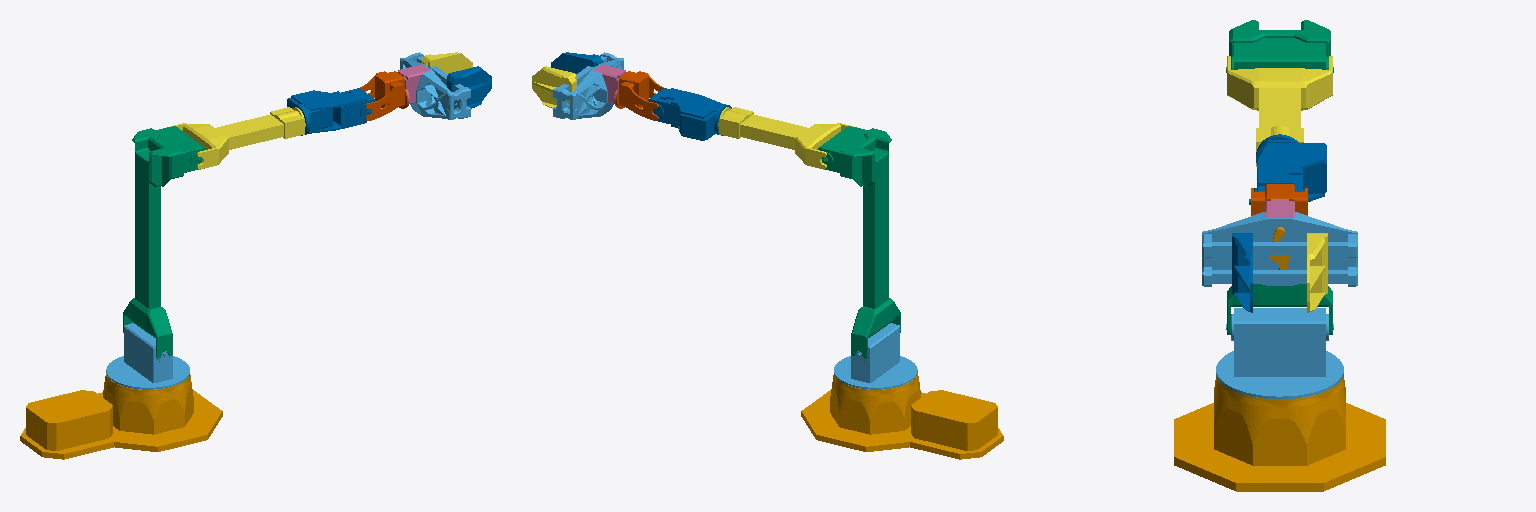
The robot description file, URDF, robot "vx300s":
<?xml version="1.0" ?>
<!-- =================================================================================== -->
<!-- |    This document was autogenerated by xacro from vx300s.urdf.xacro              | -->
<!-- |    EDITING THIS FILE BY HAND IS NOT RECOMMENDED                                 | -->
<!-- =================================================================================== -->
<robot name="vx300s">
  <link name="vx300s/base_link">
    <visual>
      <origin rpy="0 0 1.5707963267948966" xyz="0 0 0"/>
      <geometry>
        <mesh filename="../meshes/vx300s_meshes/vx300s_1_base.obj" scale="0.001 0.001 0.001"/>
      </geometry>
    </visual>
    <collision>
      <origin rpy="0 0 1.5707963267948966" xyz="0 0 0"/>
      <geometry>
        <mesh filename="../meshes/vx300s_meshes/vx300s_1_base.obj" scale="0.001 0.001 0.001"/>
      </geometry>
    </collision>
    <inertial>
      <origin rpy="0 0 1.5707963267948966" xyz="-0.0534774000 -0.0005625750 0.0205961000"/>
      <mass value="0.969034"/>
      <inertia ixx="0.0060240000" ixy="0.0000471300" ixz="0.0000038510" iyy="0.0017000000" iyz="-0.0000841500" izz="0.0071620000"/>
    </inertial>
  </link>
  <joint name="waist" type="revolute">
    <axis xyz="0 0 1"/>
    <limit effort="10" lower="-3.141582653589793" upper="3.141582653589793" velocity="3.141592653589793"/>
    <origin rpy="0 0 0" xyz="0 0 0.079"/>
    <parent link="vx300s/base_link"/>
    <child link="vx300s/shoulder_link"/>
    <dynamics friction="0.1"/>
  </joint>
  <transmission name="trans_waist">
    <type>transmission_interface/SimpleTransmission</type>
    <joint name="waist">
      <hardwareInterface>hardware_interface/EffortJointInterface</hardwareInterface>
    </joint>
    <actuator name="waist_motor">
      <mechanicalReduction>1</mechanicalReduction>
    </actuator>
  </transmission>
  <link name="vx300s/shoulder_link">
    <visual>
      <origin rpy="0 0 1.5707963267948966" xyz="0 0 -0.003"/>
      <geometry>
        <mesh filename="../meshes/vx300s_meshes/vx300s_2_shoulder.obj" scale="0.001 0.001 0.001"/>
      </geometry>
    </visual>
    <collision>
      <origin rpy="0 0 1.5707963267948966" xyz="0 0 -0.003"/>
      <geometry>
        <mesh filename="../meshes/vx300s_meshes/vx300s_2_shoulder.obj" scale="0.001 0.001 0.001"/>
      </geometry>
    </collision>
    <inertial>
      <origin rpy="0 0 1.5707963267948966" xyz="0.0002592330 -0.0000033552 0.0116129000"/>
      <mass value="0.798614"/>
      <inertia ixx="0.0009388000" ixy="-0.0000000010" ixz="-0.0000000191" iyy="0.0011380000" iyz="0.0000059568" izz="0.0012010000"/>
    </inertial>
  </link>
  <joint name="shoulder" type="revolute">
    <axis xyz="0 1 0"/>
    <limit effort="20" lower="-1.8500490071139892" upper="1.2566370614359172" velocity="3.141592653589793"/>
    <origin rpy="0 0 0" xyz="0 0 0.04805"/>
    <parent link="vx300s/shoulder_link"/>
    <child link="vx300s/upper_arm_link"/>
    <dynamics friction="0.1"/>
  </joint>
  <transmission name="trans_shoulder">
    <type>transmission_interface/SimpleTransmission</type>
    <joint name="shoulder">
      <hardwareInterface>hardware_interface/EffortJointInterface</hardwareInterface>
    </joint>
    <actuator name="shoulder_motor">
      <mechanicalReduction>1</mechanicalReduction>
    </actuator>
  </transmission>
  <link name="vx300s/upper_arm_link">
    <visual>
      <origin rpy="0 0 1.5707963267948966" xyz="0 0 0"/>
      <geometry>
        <mesh filename="../meshes/vx300s_meshes/vx300s_3_upper_arm.obj" scale="0.001 0.001 0.001"/>
      </geometry>
    </visual>
    <collision>
      <origin rpy="0 0 1.5707963267948966" xyz="0 0 0"/>
      <geometry>
        <mesh filename="../meshes/vx300s_meshes/vx300s_3_upper_arm.obj" scale="0.001 0.001 0.001"/>
      </geometry>
    </collision>
    <inertial>
      <origin rpy="0 0 1.5707963267948966" xyz="0.0206949000 0.0000000004 0.2264590000"/>
      <mass value="0.792592"/>
      <inertia ixx="0.0089250000" ixy="0.0000000000" ixz="0.0000000000" iyy="0.0089370000" iyz="0.0012010000" izz="0.0009357000"/>
    </inertial>
  </link>
  <joint name="elbow" type="revolute">
    <axis xyz="0 1 0"/>
    <limit effort="15" lower="-1.7627825445142729" upper="1.6057029118347832" velocity="3.141592653589793"/>
    <origin rpy="0 0 0" xyz="0.05955 0 0.3"/>
    <parent link="vx300s/upper_arm_link"/>
    <child link="vx300s/upper_forearm_link"/>
    <dynamics friction="0.1"/>
  </joint>
  <transmission name="trans_elbow">
    <type>transmission_interface/SimpleTransmission</type>
    <joint name="elbow">
      <hardwareInterface>hardware_interface/EffortJointInterface</hardwareInterface>
    </joint>
    <actuator name="elbow_motor">
      <mechanicalReduction>1</mechanicalReduction>
    </actuator>
  </transmission>
  <link name="vx300s/upper_forearm_link">
    <visual>
      <origin rpy="0 0 0" xyz="0 0 0"/>
      <geometry>
        <mesh filename="../meshes/vx300s_meshes/vx300s_4_upper_forearm.obj" scale="0.001 0.001 0.001"/>
      </geometry>
    </visual>
    <collision>
      <origin rpy="0 0 0" xyz="0 0 0"/>
      <geometry>
        <mesh filename="../meshes/vx300s_meshes/vx300s_4_upper_forearm.obj" scale="0.001 0.001 0.001"/>
      </geometry>
    </collision>
    <inertial>
      <origin rpy="0 0 0" xyz="0.105723 0 0"/>
      <mass value="0.322228"/>
      <inertia ixx="0.0001524000" ixy="-0.0000188300" ixz="-0.0000084064" iyy="0.0013420000" iyz="0.0000012564" izz="0.0014410000"/>
    </inertial>
  </link>
  <joint name="forearm_roll" type="revolute">
    <axis xyz="1 0 0"/>
    <limit effort="2" lower="-3.141582653589793" upper="3.141582653589793" velocity="3.141592653589793"/>
    <origin rpy="0 0 0" xyz="0.2 0 0"/>
    <parent link="vx300s/upper_forearm_link"/>
    <child link="vx300s/lower_forearm_link"/>
    <dynamics friction="0.1"/>
  </joint>
  <transmission name="trans_forearm_roll">
    <type>transmission_interface/SimpleTransmission</type>
    <joint name="forearm_roll">
      <hardwareInterface>hardware_interface/EffortJointInterface</hardwareInterface>
    </joint>
    <actuator name="forearm_roll_motor">
      <mechanicalReduction>1</mechanicalReduction>
    </actuator>
  </transmission>
  <link name="vx300s/lower_forearm_link">
    <visual>
      <origin rpy="3.141592653589793 0 0" xyz="0 0 0"/>
      <geometry>
        <mesh filename="../meshes/vx300s_meshes/vx300s_5_lower_forearm.obj" scale="0.001 0.001 0.001"/>
      </geometry>
    </visual>
    <collision>
      <origin rpy="3.141592653589793 0 0" xyz="0 0 0"/>
      <geometry>
        <mesh filename="../meshes/vx300s_meshes/vx300s_5_lower_forearm.obj" scale="0.001 0.001 0.001"/>
      </geometry>
    </collision>
    <inertial>
      <origin rpy="3.141592653589793 0 0" xyz="0.0513477000 0.0068046200 0"/>
      <mass value="0.414823"/>
      <inertia ixx="0.0001753000" ixy="-0.0000852800" ixz="0" iyy="0.0005269000" iyz="0" izz="0.0005911000"/>
    </inertial>
  </link>
  <joint name="wrist_angle" type="revolute">
    <axis xyz="0 1 0"/>
    <limit effort="5" lower="-1.8675022996339325" upper="2.234021442552742" velocity="3.141592653589793"/>
    <origin rpy="0 0 0" xyz="0.1 0 0"/>
    <parent link="vx300s/lower_forearm_link"/>
    <child link="vx300s/wrist_link"/>
    <dynamics friction="0.1"/>
  </joint>
  <transmission name="trans_wrist_angle">
    <type>transmission_interface/SimpleTransmission</type>
    <joint name="wrist_angle">
      <hardwareInterface>hardware_interface/EffortJointInterface</hardwareInterface>
    </joint>
    <actuator name="wrist_angle_motor">
      <mechanicalReduction>1</mechanicalReduction>
    </actuator>
  </transmission>
  <link name="vx300s/wrist_link">
    <visual>
      <origin rpy="0 0 1.5707963267948966" xyz="0 0 0"/>
      <geometry>
        <mesh filename="../meshes/vx300s_meshes/vx300s_6_wrist.obj" scale="0.001 0.001 0.001"/>
      </geometry>
    </visual>
    <collision>
      <origin rpy="0 0 1.5707963267948966" xyz="0 0 0"/>
      <geometry>
        <mesh filename="../meshes/vx300s_meshes/vx300s_6_wrist.obj" scale="0.001 0.001 0.001"/>
      </geometry>
    </collision>
    <inertial>
      <origin rpy="0 0 1.5707963267948966" xyz="0.0467430000 -0.0000076652 0.0105650000"/>
      <mass value="0.115395"/>
      <inertia ixx="0.0000463100" ixy="0.0000000195" ixz="0.0000000023" iyy="0.0000451400" iyz="0.0000042002" izz="0.0000527000"/>
    </inertial>
  </link>
  <joint name="wrist_rotate" type="revolute">
    <axis xyz="1 0 0"/>
    <limit effort="1" lower="-3.141582653589793" upper="3.141582653589793" velocity="3.141592653589793"/>
    <origin rpy="0 0 0" xyz="0.069744 0 0"/>
    <parent link="vx300s/wrist_link"/>
    <child link="vx300s/gripper_link"/>
    <dynamics friction="0.1"/>
  </joint>
  <transmission name="trans_wrist_rotate">
    <type>transmission_interface/SimpleTransmission</type>
    <joint name="wrist_rotate">
      <hardwareInterface>hardware_interface/EffortJointInterface</hardwareInterface>
    </joint>
    <actuator name="wrist_rotate_motor">
      <mechanicalReduction>1</mechanicalReduction>
    </actuator>
  </transmission>
  <link name="vx300s/gripper_link">
    <visual>
      <origin rpy="0 0 1.5707963267948966" xyz="-0.02 0 0"/>
      <geometry>
        <mesh filename="../meshes/vx300s_meshes/vx300s_7_gripper.obj" scale="0.001 0.001 0.001"/>
      </geometry>
    </visual>
    <collision>
      <origin rpy="0 0 1.5707963267948966" xyz="-0.02 0 0"/>
      <geometry>
        <mesh filename="../meshes/vx300s_meshes/vx300s_7_gripper.obj" scale="0.001 0.001 0.001"/>
      </geometry>
    </collision>
    <inertial>
      <origin rpy="0 0 1.5707963267948966" xyz="0.0230010000 0.0000000000 0.0115230000"/>
      <mass value="0.097666"/>
      <inertia ixx="0.0000326800" ixy="0.0000000000" ixz="0.0000000000" iyy="0.0000243600" iyz="0.0000002785" izz="0.0000211900"/>
    </inertial>
  </link>
  <joint name="ee_arm" type="fixed">
    <axis xyz="1 0 0"/>
    <origin rpy="0 0 0" xyz="0.042825 0 0"/>
    <parent link="vx300s/gripper_link"/>
    <child link="vx300s/ee_arm_link"/>
  </joint>
  <link name="vx300s/ee_arm_link">
    <inertial>
      <mass value="0.001"/>
      <inertia ixx="0.0001" ixy="0" ixz="0" iyy="0.0001" iyz="0" izz="0.0001"/>
    </inertial>
  </link>
  <joint name="gripper" type="continuous">
    <axis xyz="1 0 0"/>
    <limit effort="1" velocity="3.141592653589793"/>
    <origin rpy="0 0 0" xyz="0.005675 0 0"/>
    <parent link="vx300s/ee_arm_link"/>
    <child link="vx300s/gripper_prop_link"/>
    <dynamics friction="0.1"/>
  </joint>
  <transmission name="trans_gripper">
    <type>transmission_interface/SimpleTransmission</type>
    <joint name="gripper">
      <hardwareInterface>hardware_interface/EffortJointInterface</hardwareInterface>
    </joint>
    <actuator name="gripper_motor">
      <mechanicalReduction>1</mechanicalReduction>
    </actuator>
  </transmission>
  <link name="vx300s/gripper_prop_link">
    <visual>
      <origin rpy="0 0 1.5707963267948966" xyz="-0.0685 0 0"/>
      <geometry>
        <mesh filename="../meshes/vx300s_meshes/vx300s_8_gripper_prop.obj" scale="0.001 0.001 0.001"/>
      </geometry>
    </visual>
    <collision>
      <origin rpy="0 0 1.5707963267948966" xyz="-0.0685 0 0"/>
      <geometry>
        <mesh filename="../meshes/vx300s_meshes/vx300s_8_gripper_prop.obj" scale="0.001 0.001 0.001"/>
      </geometry>
    </collision>
    <inertial>
      <origin rpy="0 0 1.5707963267948966" xyz="0.0023780000 0.0000000285 0.0000000000"/>
      <mass value="0.008009"/>
      <inertia ixx="0.0000020386" ixy="0.0000000000" ixz="0.0000006559" iyy="0.0000042979" iyz="0.0000000000" izz="0.0000023796"/>
    </inertial>
  </link>
  <!-- If the AR tag is being used, then add the AR tag mount -->
  <!-- If the gripper bar is being used, then also add the gripper bar -->
  <joint name="gripper_bar" type="fixed">
    <axis xyz="1 0 0"/>
    <origin rpy="0 0 0" xyz="0 0 0"/>
    <parent link="vx300s/ee_arm_link"/>
    <child link="vx300s/gripper_bar_link"/>
  </joint>
  <link name="vx300s/gripper_bar_link">
    <visual>
      <origin rpy="0 0 1.5707963267948966" xyz="-0.063 0 0"/>
      <geometry>
        <mesh filename="../meshes/vx300s_meshes/vx300s_9_gripper_bar.obj" scale="0.001 0.001 0.001"/>
      </geometry>
    </visual>
    <collision>
      <origin rpy="0 0 1.5707963267948966" xyz="-0.063 0 0"/>
      <geometry>
        <mesh filename="../meshes/vx300s_meshes/vx300s_9_gripper_bar.obj" scale="0.001 0.001 0.001"/>
      </geometry>
    </collision>
    <inertial>
      <origin rpy="0 0 1.5707963267948966" xyz="0.0067940000 -0.0000004272 -0.0007760000"/>
      <mass value="0.150986"/>
      <inertia ixx="0.0000789500" ixy="-0.0000000012" ixz="0.0000001341" iyy="0.0003283000" iyz="0.0000017465" izz="0.0003095000"/>
    </inertial>
  </link>
  <joint name="ee_bar" type="fixed">
    <axis xyz="1 0 0"/>
    <origin rpy="0 0 0" xyz="0.025875 0 0"/>
    <parent link="vx300s/gripper_bar_link"/>
    <child link="vx300s/fingers_link"/>
  </joint>
  <link name="vx300s/fingers_link">
    <inertial>
      <mass value="0.001"/>
      <inertia ixx="0.0001" ixy="0" ixz="0" iyy="0.0001" iyz="0" izz="0.0001"/>
    </inertial>
  </link>
  <!-- If the gripper fingers are being used, add those as well -->
  <joint name="left_finger" type="prismatic">
    <axis xyz="0 1 0"/>
    <limit effort="5" lower="0.021" upper="0.057" velocity="1"/>
    <origin rpy="0 0 0" xyz="0 0 0"/>
    <parent link="vx300s/fingers_link"/>
    <child link="vx300s/left_finger_link"/>
    <dynamics friction="0.1"/>
  </joint>
  <transmission name="trans_left_finger">
    <type>transmission_interface/SimpleTransmission</type>
    <joint name="left_finger">
      <hardwareInterface>hardware_interface/EffortJointInterface</hardwareInterface>
    </joint>
    <actuator name="left_finger_motor">
      <mechanicalReduction>1</mechanicalReduction>
    </actuator>
  </transmission>
  <link name="vx300s/left_finger_link">
    <visual>
      <origin rpy="1.5707963267948966 -3.141592653589793 1.5707963267948966" xyz="-0.0404 -0.0575 0"/>
      <geometry>
        <mesh filename="../meshes/vx300s_meshes/vx300s_10_gripper_finger.obj" scale="0.001 0.001 0.001"/>
      </geometry>
    </visual>
    <collision>
      <origin rpy="1.5707963267948966 -3.141592653589793 1.5707963267948966" xyz="-0.0404 -0.0575 0"/>
      <geometry>
        <mesh filename="../meshes/vx300s_meshes/vx300s_10_gripper_finger.obj" scale="0.001 0.001 0.001"/>
      </geometry>
    </collision>
    <inertial>
      <origin rpy="3.141592653589793 3.141592653589793 1.5707963267948966" xyz="0.0173440000 -0.0060692000 0.0000000000"/>
      <mass value="0.034796"/>
      <inertia ixx="0.0000243300" ixy="-0.0000024004" ixz="0.0000000000" iyy="0.0000125500" iyz="0.0000000000" izz="0.0000141700"/>
    </inertial>
  </link>
  <joint name="right_finger" type="prismatic">
    <axis xyz="0 1 0"/>
    <limit effort="5" lower="-0.057" upper="-0.021" velocity="1"/>
    <origin rpy="0 0 0" xyz="0 0 0"/>
    <parent link="vx300s/fingers_link"/>
    <child link="vx300s/right_finger_link"/>
    <dynamics friction="0.1"/>
    <mimic joint="left_finger" multiplier="-1" offset="0"/>
  </joint>
  <transmission name="trans_right_finger">
    <type>transmission_interface/SimpleTransmission</type>
    <joint name="right_finger">
      <hardwareInterface>hardware_interface/EffortJointInterface</hardwareInterface>
    </joint>
    <actuator name="right_finger_motor">
      <mechanicalReduction>1</mechanicalReduction>
    </actuator>
  </transmission>
  <link name="vx300s/right_finger_link">
    <visual>
      <origin rpy="-1.5707963267948966 3.141592653589793 -1.5707963267948966" xyz="-0.0404 0.0575 0 "/>
      <geometry>
        <mesh filename="../meshes/vx300s_meshes/vx300s_10_gripper_finger.obj" scale="0.001 0.001 0.001"/>
      </geometry>
    </visual>
    <collision>
      <origin rpy="-1.5707963267948966 3.141592653589793 -1.5707963267948966" xyz="-0.0404 0.0575 0 "/>
      <geometry>
        <mesh filename="../meshes/vx300s_meshes/vx300s_10_gripper_finger.obj" scale="0.001 0.001 0.001"/>
      </geometry>
    </collision>
    <inertial>
      <origin rpy="0 3.141592653589793 1.5707963267948966" xyz="0.0173440000 0.0060692000  0.0000000000"/>
      <mass value="0.034796"/>
      <inertia ixx="0.0000243300" ixy="0.0000024001" ixz="0.0000000000" iyy="0.0000125500" iyz="0.0000000000" izz="0.0000141700"/>
    </inertial>
  </link>
  <joint name="ee_gripper" type="fixed">
    <axis xyz="1 0 0"/>
    <origin rpy="0 0 0" xyz="0.0385 0 0"/>
    <parent link="vx300s/fingers_link"/>
    <child link="vx300s/ee_gripper_link"/>
  </joint>
  <link name="vx300s/ee_gripper_link">
    <inertial>
      <mass value="0.001"/>
      <inertia ixx="0.0001" ixy="0" ixz="0" iyy="0.0001" iyz="0" izz="0.0001"/>
    </inertial>
  </link>
</robot>

--- What the picture shows (computed from the rendered views, not written in the file) ---
Views: 3 orthographic renders of the robot side by side, from view 1: azimuth 30°, elevation 25°; view 2: azimuth 150°, elevation 25°; view 3: azimuth 270°, elevation 25°.
Robot: vx300s — 14 links, 13 joints (6 revolute, 1 continuous, 2 prismatic, 4 fixed); root link vx300s/base_link; default pose: all joints at 0 but 2 set to mid-range because 0 is outside their limits (left_finger = 0.039, right_finger = -0.039).
Visible links, largest first — view 1: vx300s/base_link, vx300s/upper_arm_link, vx300s/upper_forearm_link, vx300s/shoulder_link, vx300s/lower_forearm_link, vx300s/gripper_bar_link, vx300s/wrist_link, vx300s/right_finger_link, vx300s/left_finger_link, vx300s/gripper_link; view 2: vx300s/base_link, vx300s/upper_arm_link, vx300s/upper_forearm_link, vx300s/shoulder_link, vx300s/lower_forearm_link, vx300s/gripper_bar_link, vx300s/wrist_link, vx300s/left_finger_link, vx300s/right_finger_link, vx300s/gripper_link; view 3: vx300s/base_link, vx300s/shoulder_link, vx300s/gripper_bar_link, vx300s/upper_arm_link, vx300s/upper_forearm_link, vx300s/lower_forearm_link, vx300s/left_finger_link, vx300s/right_finger_link, vx300s/wrist_link, vx300s/gripper_link.
Link boxes in pixels (box(x1,y1,x2,y2)): vx300s/base_link: box(20, 373, 222, 459); vx300s/upper_arm_link: box(123, 126, 205, 358); vx300s/upper_forearm_link: box(166, 107, 305, 169); vx300s/shoulder_link: box(106, 323, 189, 389); vx300s/lower_forearm_link: box(287, 88, 375, 135); vx300s/gripper_bar_link: box(400, 52, 470, 119); vx300s/wrist_link: box(360, 71, 407, 120); vx300s/right_finger_link: box(447, 66, 491, 108); vx300s/left_finger_link: box(421, 52, 472, 73); vx300s/gripper_link: box(398, 64, 430, 107); vx300s/base_link: box(801, 373, 1003, 459); vx300s/upper_arm_link: box(818, 126, 900, 358); vx300s/upper_forearm_link: box(718, 107, 857, 169); vx300s/shoulder_link: box(834, 323, 917, 389); vx300s/lower_forearm_link: box(648, 88, 731, 140); vx300s/gripper_bar_link: box(553, 52, 623, 119); vx300s/wrist_link: box(616, 71, 663, 120); vx300s/left_finger_link: box(532, 66, 576, 108); vx300s/right_finger_link: box(551, 52, 602, 73); vx300s/gripper_link: box(593, 64, 625, 107); vx300s/base_link: box(1174, 376, 1385, 491); vx300s/shoulder_link: box(1216, 308, 1343, 398); vx300s/gripper_bar_link: box(1202, 212, 1357, 286); vx300s/upper_arm_link: box(1226, 20, 1333, 334); vx300s/upper_forearm_link: box(1227, 56, 1332, 166); vx300s/lower_forearm_link: box(1249, 134, 1326, 204); vx300s/left_finger_link: box(1307, 233, 1327, 312); vx300s/right_finger_link: box(1232, 233, 1252, 312); vx300s/wrist_link: box(1251, 184, 1307, 215); vx300s/gripper_link: box(1265, 199, 1294, 217).
Bounding box of the posed robot: 0.7633 × 0.204 × 0.4623 m (x, y, z).
11 mesh visuals loaded from 10 distinct referenced files (10 OBJ).
